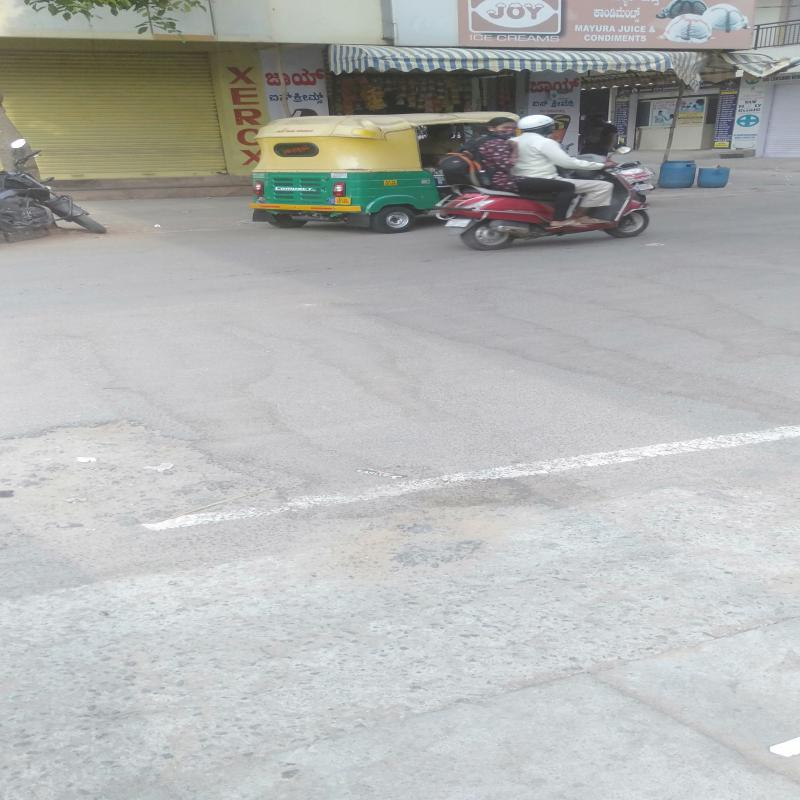auto: (277, 114, 459, 217)
